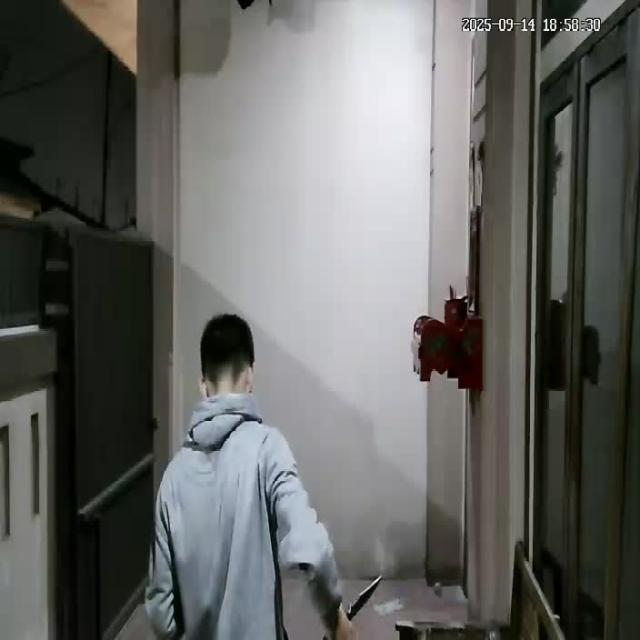senjata_tajam: (347, 571, 386, 623)
